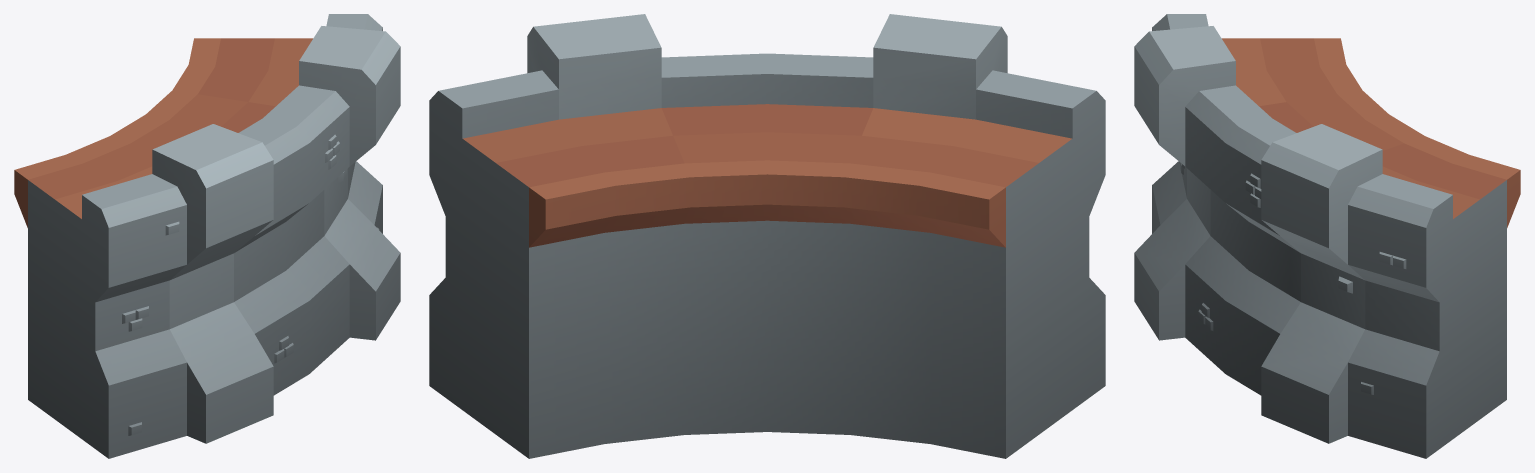
The model's file is wall_corner.glb.
3 renders of one model, left to right at view 1: azimuth 30°, elevation 25°; view 2: azimuth 150°, elevation 25°; view 3: azimuth 270°, elevation 25°, orthographic. The views are drawn at different scales.
Visible parts, largest first — view 1: wall_corner; view 2: wall_corner; view 3: wall_corner.
Part boxes in pixels (bbox=[...]): wall_corner: bbox=[14, 14, 400, 458]; wall_corner: bbox=[429, 14, 1105, 458]; wall_corner: bbox=[1134, 14, 1520, 458].
Bounding box in the file's own units: 0.8799 × 0.55 × 0.7159.
1 material, 1 textured.
